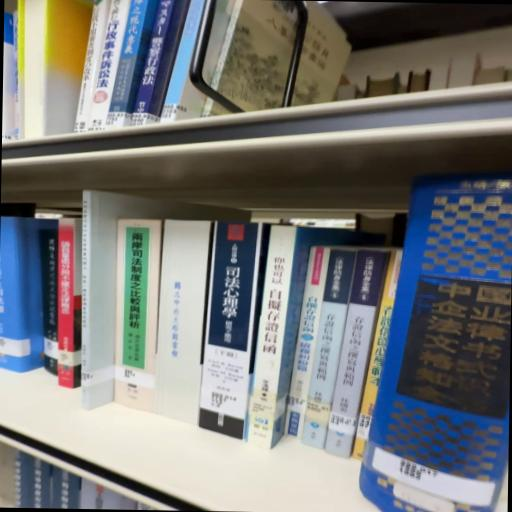backward: (154, 219, 214, 426)
book: (198, 226, 264, 446), (322, 246, 384, 456)
